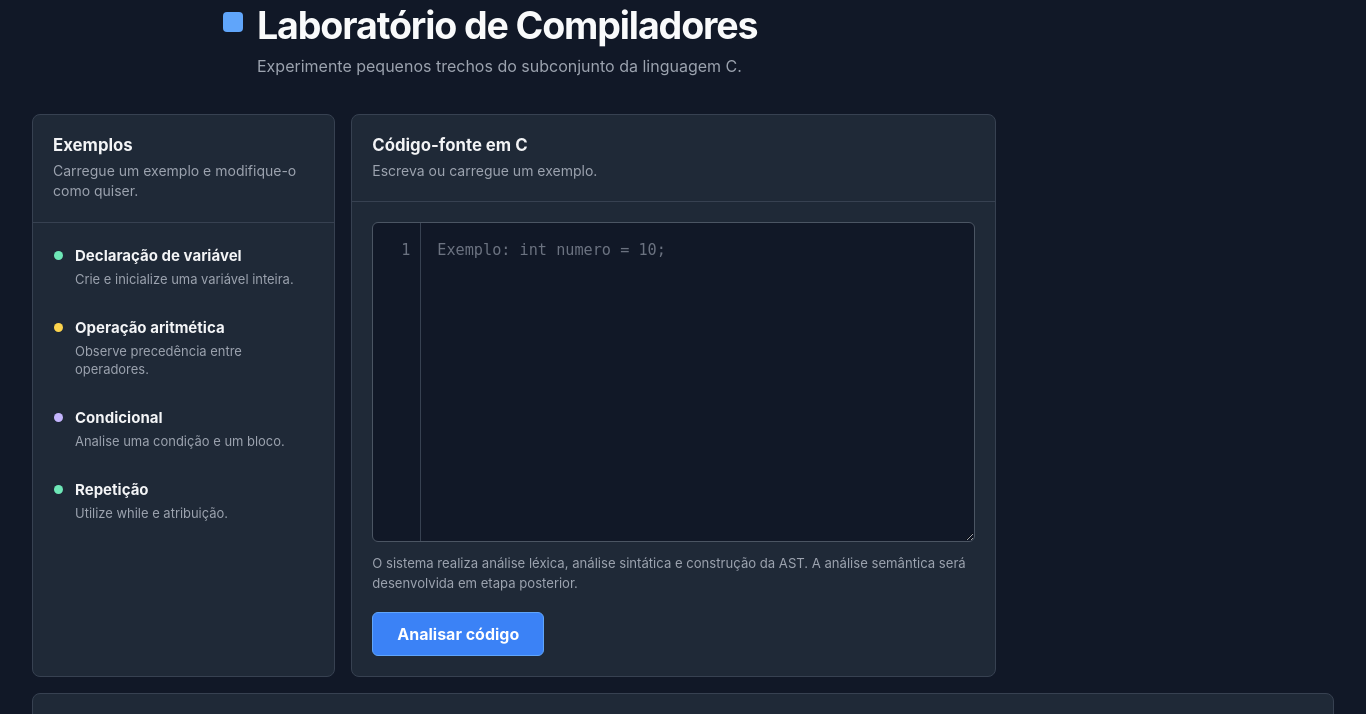
Test: App › exibe erro sintático separado de erros léxicos
This screenshot has width=1366, height=714.
Type "int numero = 10" into the text box named "Editor de código-fonte em C" at (698, 382), box [421, 223, 974, 541]
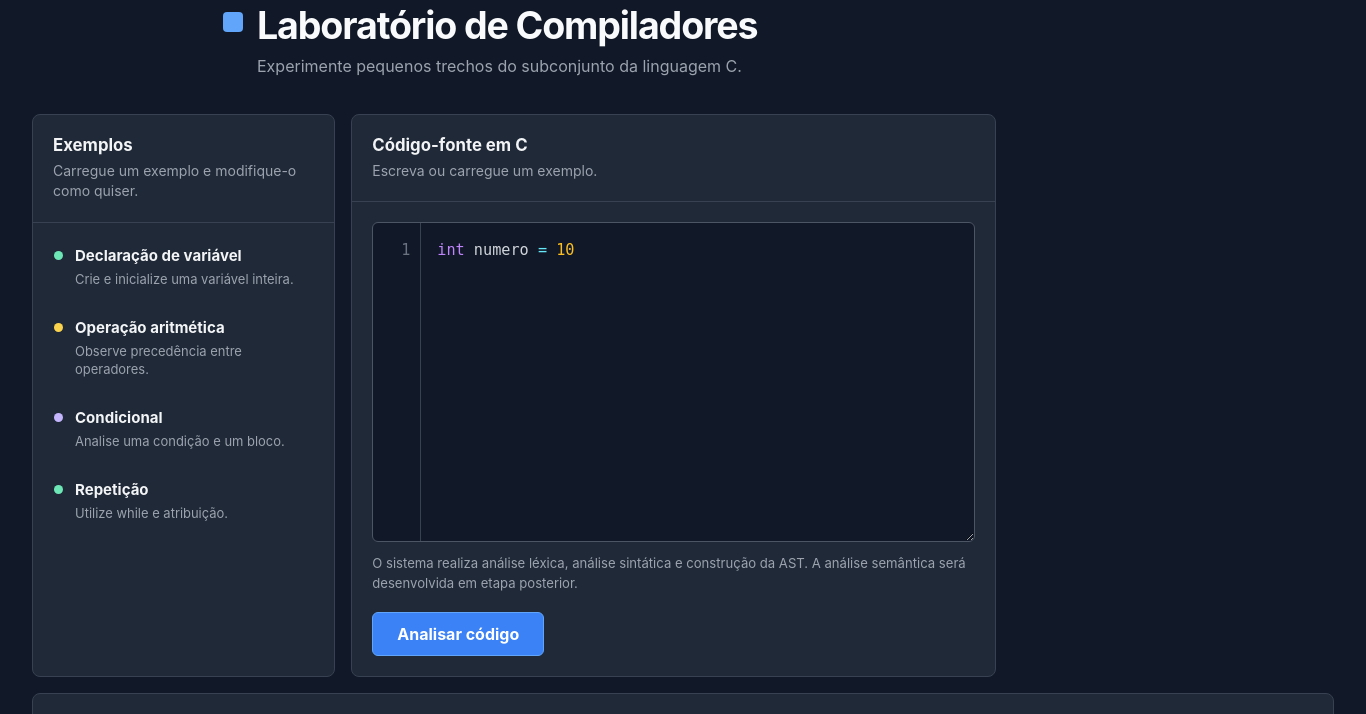
Click the button "Analisar código" at (458, 634), box [372, 612, 544, 656]
(page scrolled)
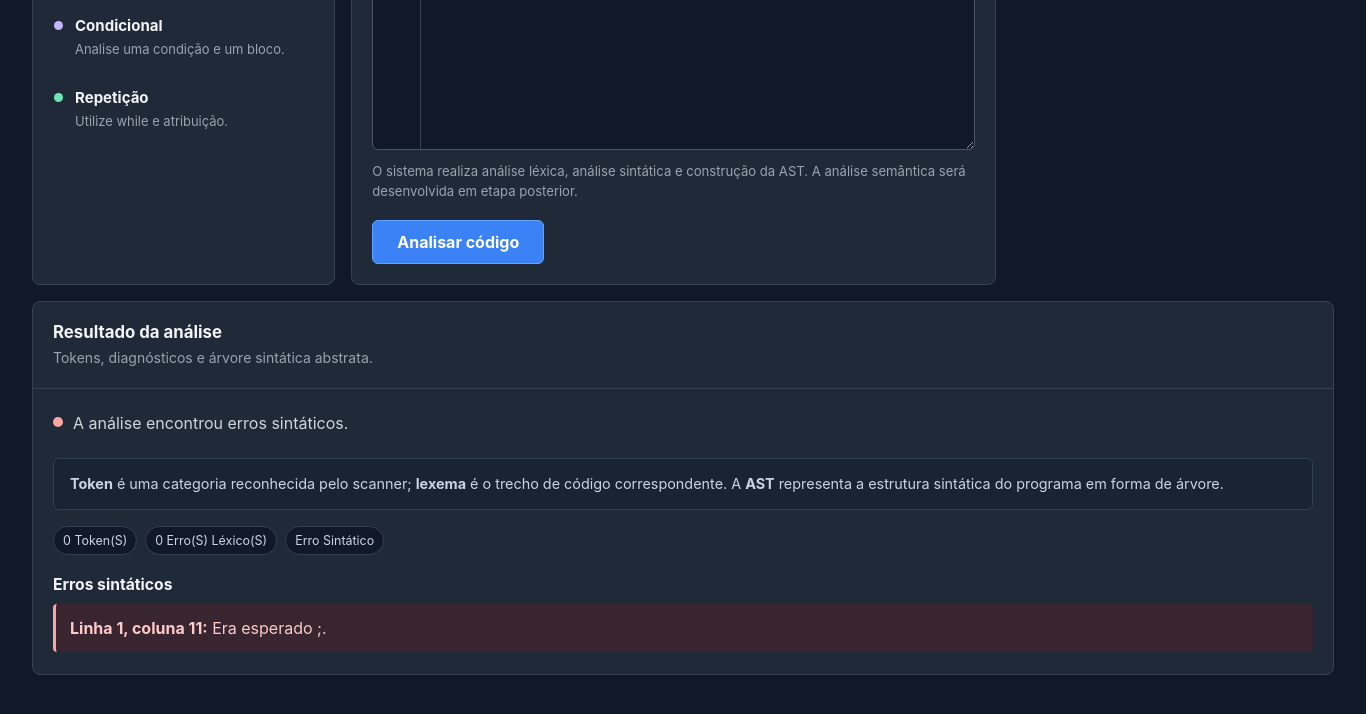
Result: the heading "Erros sintáticos" is shown at [53, 575, 172, 594]
Result: the text "Linha 1, coluna 11:" is shown at [70, 618, 208, 638]
